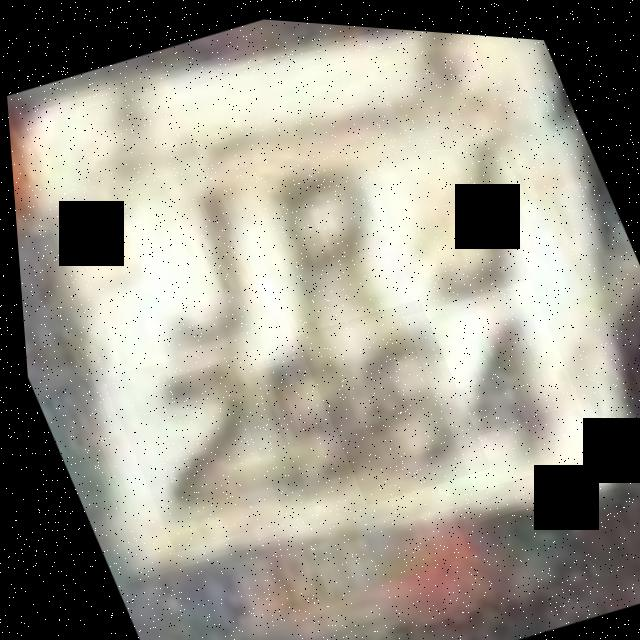2: (94, 327, 312, 560)
4: (395, 264, 601, 492)
6: (287, 285, 487, 507)
9: (207, 302, 411, 532)
J: (343, 96, 554, 323), (89, 156, 294, 384)
P: (220, 134, 417, 355)
